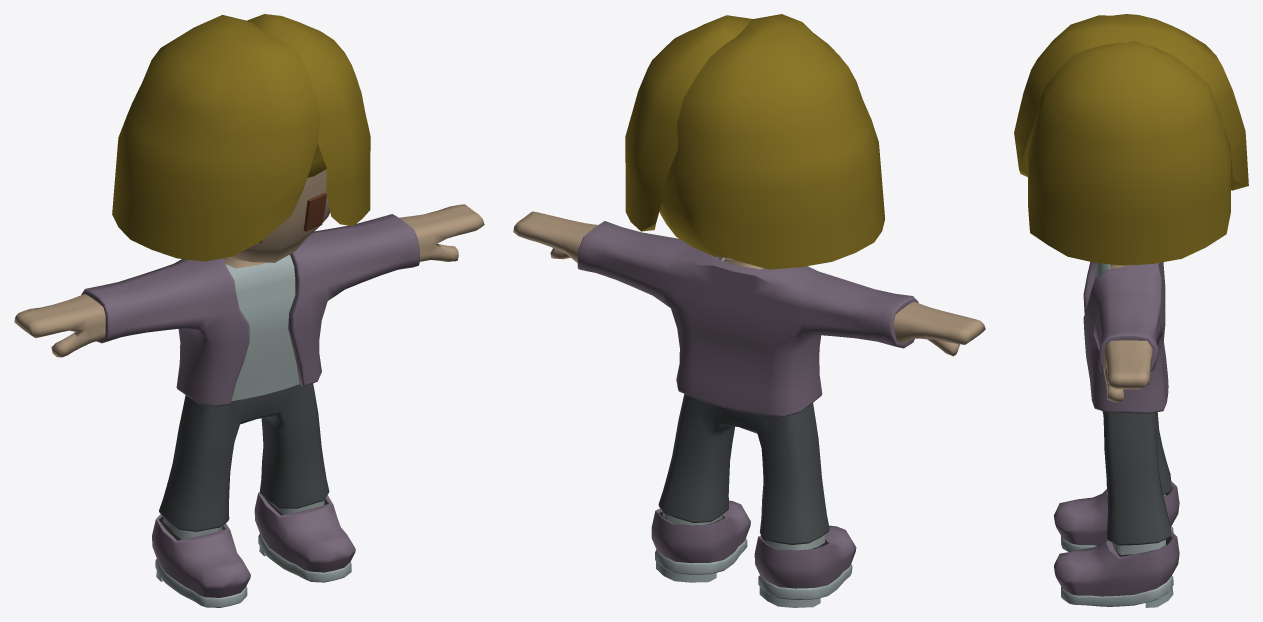
Rendered from PS_Npc02.fbx.
3 views of the same model, side by side, from view 1: azimuth 30°, elevation 25°; view 2: azimuth 150°, elevation 25°; view 3: azimuth 270°, elevation 25° (orthographic).
Visible parts, largest first — view 1: PS_Npc02; view 2: PS_Npc02; view 3: PS_Npc02.
Boxes of the visible parts, bbox=[...] form: PS_Npc02: bbox=[14, 14, 484, 607]; PS_Npc02: bbox=[513, 14, 985, 607]; PS_Npc02: bbox=[1014, 14, 1248, 607].
Size of the model in its own units: 1.5 by 1.73 by 0.6809.
